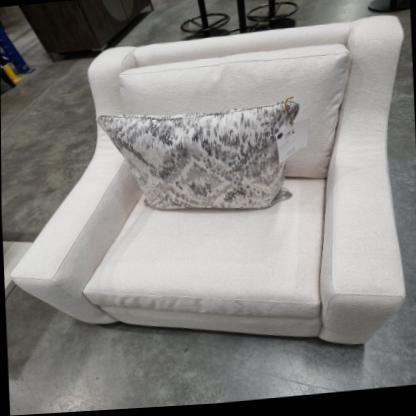Sofa: (0, 18, 416, 391)
